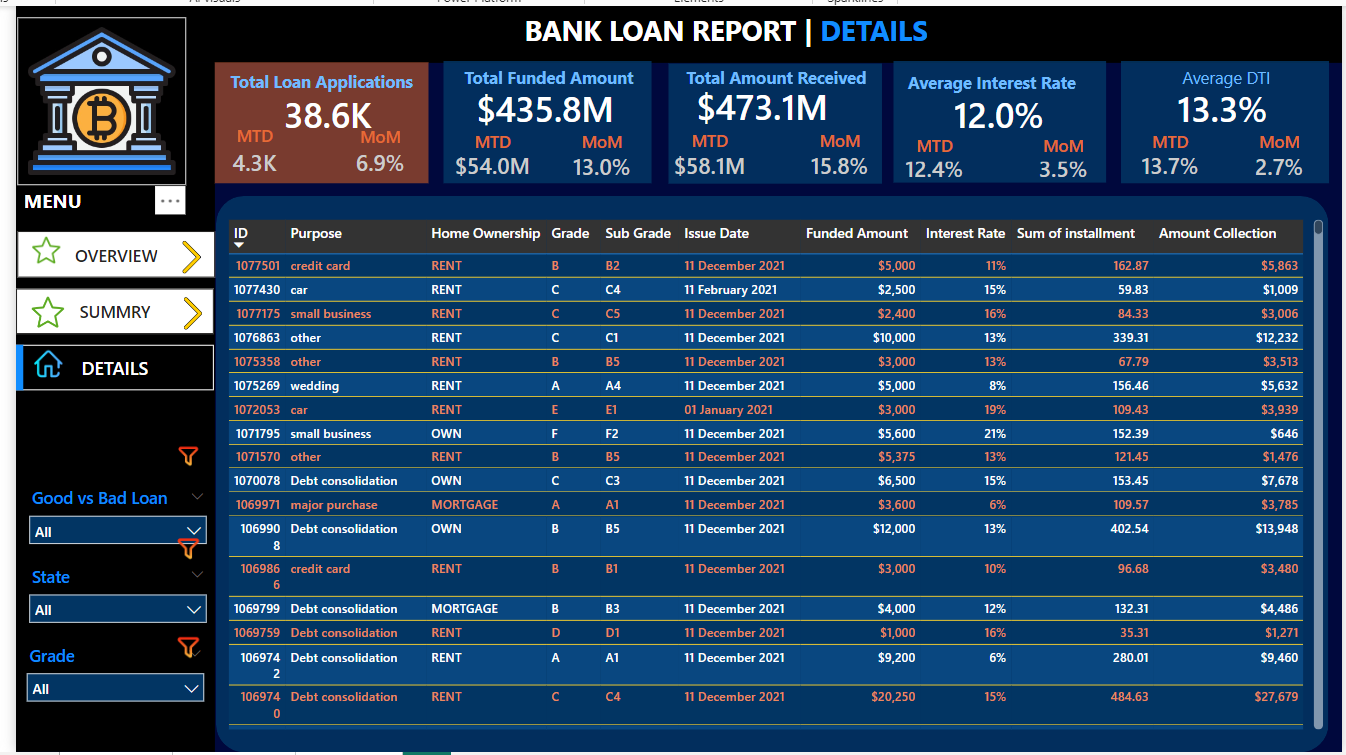

What the dashboard file says about the page in this screenshot:
{"tool":"powerbi","page":{"name":"DETAILS","canvas":[1280,720],"ordinal":2},"visuals":[{"type":"shape","box":[0,0,1280.3,54.9],"z":0},{"type":"shape","box":[412,53.1,200.9,118],"z":0,"group":"g2"},{"type":"shape","box":[847,53.1,205.2,117.4],"z":0,"group":"g4"},{"type":"shape","box":[1066.1,53.1,200.9,118],"z":0,"group":"g5"},{"type":"shape","box":[191.8,54.3,206.3,117],"z":0,"group":"g1"},{"type":"shape","box":[628.9,54.9,206,116.2],"z":0,"group":"g3"},{"type":"card","title":"Total Loan Applications","fields":{"Values":["Bank_loan_Data.Total Amount Received"]},"box":[647.8,76.1,144.2,43.1],"z":1000,"group":"g3"},{"type":"card","title":"Total Loan Applications","fields":{"Values":["Bank_loan_Data.Total Funded Amount"]},"box":[431.3,78.6,157.1,41.7],"z":1000,"group":"g2"},{"type":"card","title":"Total Loan Applications","fields":{"Values":["Bank_loan_Data.Avg DTI"]},"box":[1085.4,78.6,157.1,41.7],"z":1000,"group":"g5"},{"type":"card","title":"Total Loan Applications","fields":{"Values":["Bank_loan_Data.Total Loan Applications"]},"box":[237.3,82.7,126.6,44.3],"z":1000,"group":"g1"},{"type":"card","title":"Total Loan Applications","fields":{"Values":["Bank_loan_Data.Avg Interest Rate"]},"box":[884.1,85.2,128.2,39.4],"z":1000,"group":"g4"},{"type":"shape","box":[193,183.4,1073.7,536.9],"z":1000},{"type":"textbox","box":[632.8,53.1,200.8,39.4],"z":2000,"group":"g3"},{"type":"textbox","box":[412,53.6,203.4,46.5],"z":2000,"group":"g2"},{"type":"textbox","box":[1066.1,53.6,203.4,46.5],"z":2000,"group":"g5"},{"type":"shape","box":[0,54.9,192.1,665.5],"z":2000},{"type":"textbox","box":[192.3,56.9,206.3,34],"z":2000,"group":"g1"},{"type":"textbox","box":[848.7,57.6,187.5,31.8],"z":2000,"group":"g4"},{"type":"textbox","box":[334.8,0,699.8,54.9],"z":3000},{"type":"card","title":"MTD","fields":{"Values":["Bank_loan_Data.MTD Loan Applications"]},"box":[198.8,113.9,62.6,57.9],"z":3000,"group":"g1"},{"type":"card","title":"MTD","fields":{"Values":["Bank_loan_Data.MTD Total Amount Received"]},"box":[628,117.7,81.9,53.2],"z":3000,"group":"g3"},{"type":"card","title":"MTD","fields":{"Values":["Bank_loan_Data.MTD Funded Amount"]},"box":[410,119.1,99.6,51.5],"z":3000,"group":"g2"},{"type":"card","title":"MTD","fields":{"Values":["Bank_loan_Data.MTD Avg DTI"]},"box":[1064.1,119.1,99.6,51.5],"z":3000,"group":"g5"},{"type":"card","title":"MTD","fields":{"Values":["Bank_loan_Data.MTD Avg Int Rate"]},"box":[845.9,122.8,81.5,48.3],"z":3000,"group":"g4"},{"type":"group","id":"g1","title":"Group 1","box":[191.8,54.3,206.3,118.2],"z":4000},{"type":"card","title":"MoM","fields":{"Values":["Bank_loan_Data.MoM Loan Applications"]},"box":[307,114,90.4,55.3],"z":4000,"group":"g1"},{"type":"card","title":"MoM","fields":{"Values":["Bank_loan_Data.MoM Total Amount Received"]},"box":[753.3,117.7,81.9,53.2],"z":4000,"group":"g3"},{"type":"card","title":"MoM","fields":{"Values":["Bank_loan_Data.MoM Total Funded Amount"]},"box":[515,119.1,100.4,52.4],"z":4000,"group":"g2"},{"type":"card","title":"MoM","fields":{"Values":["Bank_loan_Data.MoM Avg DTI"]},"box":[1169.1,119.1,100.4,52.4],"z":4000,"group":"g5"},{"type":"card","title":"MoM","fields":{"Values":["Bank_loan_Data.MoM Avg Int Rate"]},"box":[970.5,122.8,81.5,48.3],"z":4000,"group":"g4"},{"type":"group","id":"g2","title":"Group 1","box":[410,53.1,206,118],"z":5000},{"type":"group","id":"g3","title":"Group 1","box":[628,53.1,206,118],"z":6000},{"type":"group","id":"g4","title":"Group 1","box":[845.9,53.1,206.3,118],"z":7000},{"type":"group","id":"g5","title":"Group 1","box":[1064.1,53.1,206,118],"z":8000},{"type":"slicer","fields":{"Values":["Bank_loan_Data.address_state"]},"box":[2.4,534.5,191.8,76],"z":9000},{"type":"slicer","fields":{"Values":["Bank_loan_Data.grade"]},"box":[0,610.5,191.8,76],"z":10000},{"type":"slicer","fields":{"Values":["Bank_loan_Data.Good Loan vs Bad Loan"]},"box":[2.4,458.4,191.8,76],"z":11000},{"type":"tableEx","fields":{"Values":["Bank_loan_Data.id","Bank_loan_Data.purpose","Bank_loan_Data.home_ownership","Bank_loan_Data.grade","Bank_loan_Data.sub_grade","Bank_loan_Data.issue_date","Bank_loan_Data.Total Funded Amount","Bank_loan_Data.Avg Interest Rate","Sum(Bank_loan_Data.installment)","Bank_loan_Data.Total Amount Received"]},"box":[199.1,201.5,1067.7,501.9],"z":12000},{"type":"image","box":[1.2,10.9,162.9,161.7],"z":13000},{"type":"pageNavigator","box":[0,326.9,191.8,44.6],"z":14000},{"type":"pageNavigator","box":[0,272.7,191.8,44.6],"z":15000},{"type":"pageNavigator","box":[1.2,217.2,191.8,45.8],"z":16000},{"type":"image","box":[133.9,416.2,65.1,36.2],"z":17000},{"type":"image","box":[142.4,504.3,48.3,38.6],"z":18000},{"type":"image","box":[142.4,599.6,48.3,38.6],"z":19000},{"type":"image","box":[147.2,276.3,47.1,41],"z":20000},{"type":"image","box":[133.9,222,71.2,41],"z":21000},{"type":"image","box":[4.8,326.9,53.1,37.4],"z":22000},{"type":"image","box":[2.4,275.1,56.7,41],"z":23000},{"type":"image","box":[1.2,217.2,56.7,37.4],"z":24000},{"type":"textbox","box":[2.4,170.1,94.1,47.1],"z":24001}]}

Visuals, with their boxes on the page's 1280x720 design canvas (x1, y1, x2, y2). These are canvas units, not pixel positions in the 1346x755 screenshot, which may show the page scaled, cropped or inside an application window:
shape: [0, 0, 1280, 55]
shape: [412, 53, 613, 171]
shape: [847, 53, 1052, 170]
shape: [1066, 53, 1267, 171]
shape: [192, 54, 398, 171]
shape: [629, 55, 835, 171]
"Total Loan Applications" card: [648, 76, 792, 119]
"Total Loan Applications" card: [431, 79, 588, 120]
"Total Loan Applications" card: [1085, 79, 1242, 120]
"Total Loan Applications" card: [237, 83, 364, 127]
"Total Loan Applications" card: [884, 85, 1012, 125]
shape: [193, 183, 1267, 720]
textbox: [633, 53, 834, 92]
textbox: [412, 54, 615, 100]
textbox: [1066, 54, 1270, 100]
shape: [0, 55, 192, 720]
textbox: [192, 57, 399, 91]
textbox: [849, 58, 1036, 89]
textbox: [335, 0, 1035, 55]
"MTD" card: [199, 114, 261, 172]
"MTD" card: [628, 118, 710, 171]
"MTD" card: [410, 119, 510, 171]
"MTD" card: [1064, 119, 1164, 171]
"MTD" card: [846, 123, 927, 171]
"Group 1" group: [192, 54, 398, 172]
"MoM" card: [307, 114, 397, 169]
"MoM" card: [753, 118, 835, 171]
"MoM" card: [515, 119, 615, 172]
"MoM" card: [1169, 119, 1270, 172]
"MoM" card: [970, 123, 1052, 171]
"Group 1" group: [410, 53, 616, 171]
"Group 1" group: [628, 53, 834, 171]
"Group 1" group: [846, 53, 1052, 171]
"Group 1" group: [1064, 53, 1270, 171]
slicer - Bank_loan_Data.address_state: [2, 534, 194, 610]
slicer - Bank_loan_Data.grade: [0, 610, 192, 686]
slicer - Bank_loan_Data.Good Loan vs Bad Loan: [2, 458, 194, 534]
tableEx - Bank_loan_Data.id x Bank_loan_Data.purpose: [199, 202, 1267, 703]
image: [1, 11, 164, 173]
pageNavigator: [0, 327, 192, 372]
pageNavigator: [0, 273, 192, 317]
pageNavigator: [1, 217, 193, 263]
image: [134, 416, 199, 452]
image: [142, 504, 191, 543]
image: [142, 600, 191, 638]
image: [147, 276, 194, 317]
image: [134, 222, 205, 263]
image: [5, 327, 58, 364]
image: [2, 275, 59, 316]
image: [1, 217, 58, 255]
textbox: [2, 170, 96, 217]
